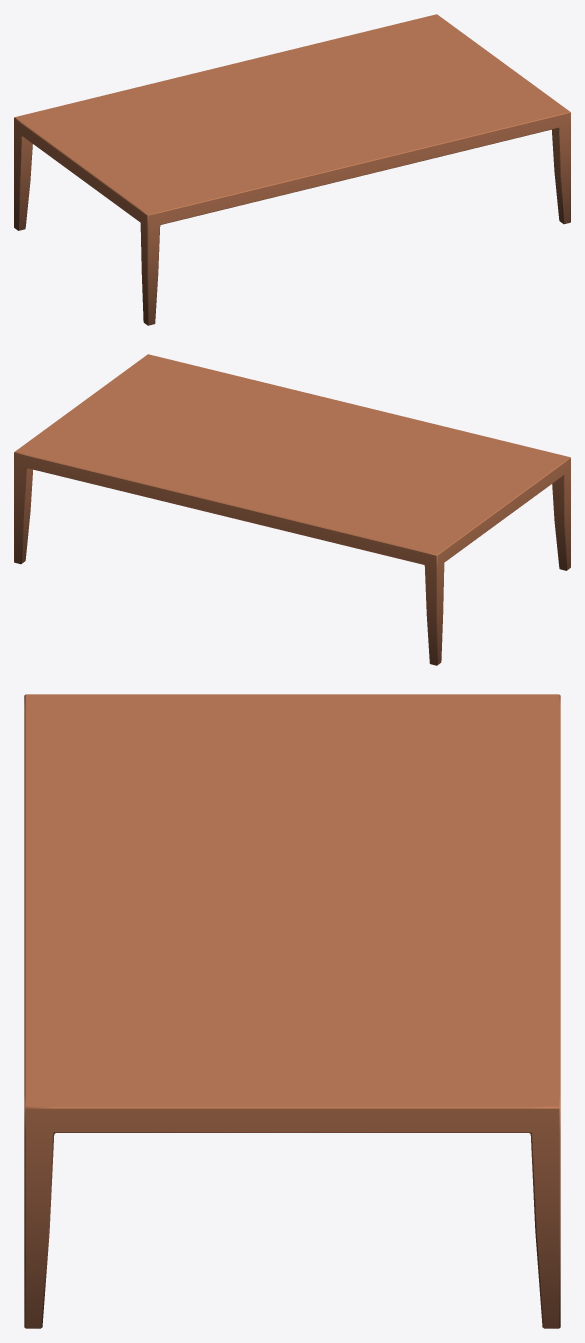
File: DiningTable.fbx
The picture shows the model from 3 angles, top to bottom: view 1: azimuth 30°, elevation 25°; view 2: azimuth 150°, elevation 25°; view 3: azimuth 270°, elevation 25°; orthographic projection. The views are drawn at different scales.
Visible parts, largest first — view 1: Table; view 2: Table; view 3: Table.
Part boxes in pixels (bbox=[...]): Table: bbox=[14, 14, 570, 325]; Table: bbox=[14, 354, 570, 665]; Table: bbox=[24, 694, 560, 1328].
Bounding box in the file's own units: 348 × 87.12 × 191.
Materials: 1 (1 with a texture image).
